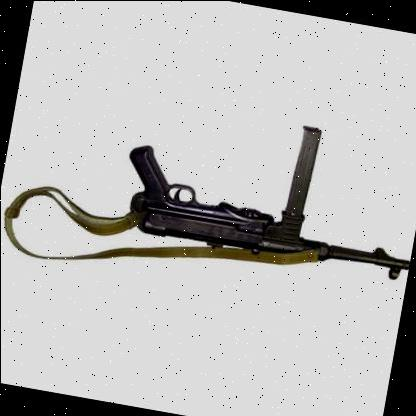rifle: (101, 95, 416, 313)
